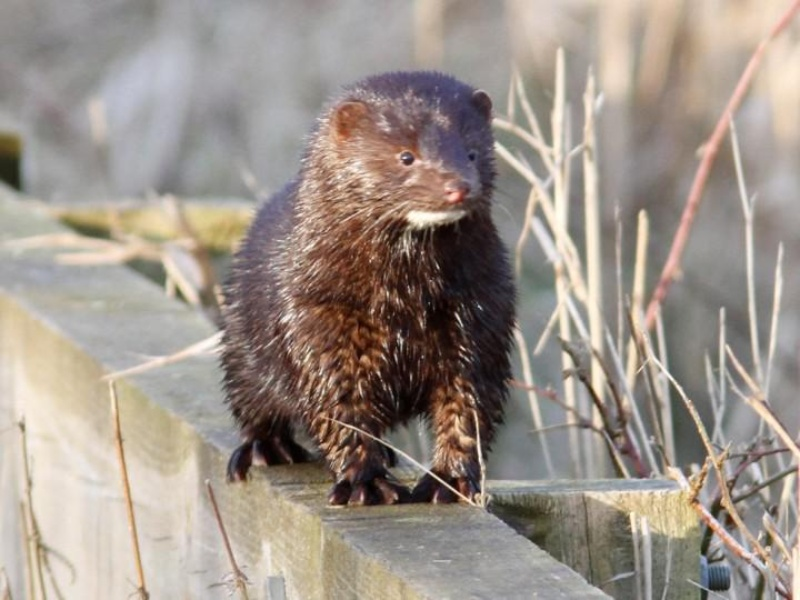minkish: (221, 65, 521, 509)
